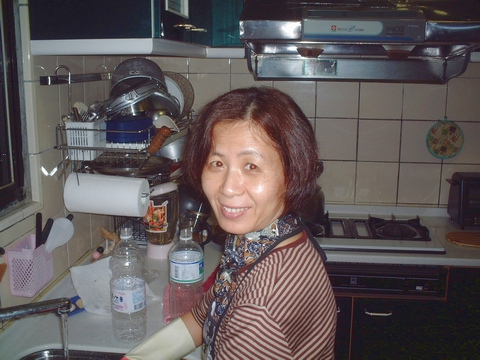without_mask: (192, 98, 327, 238)
